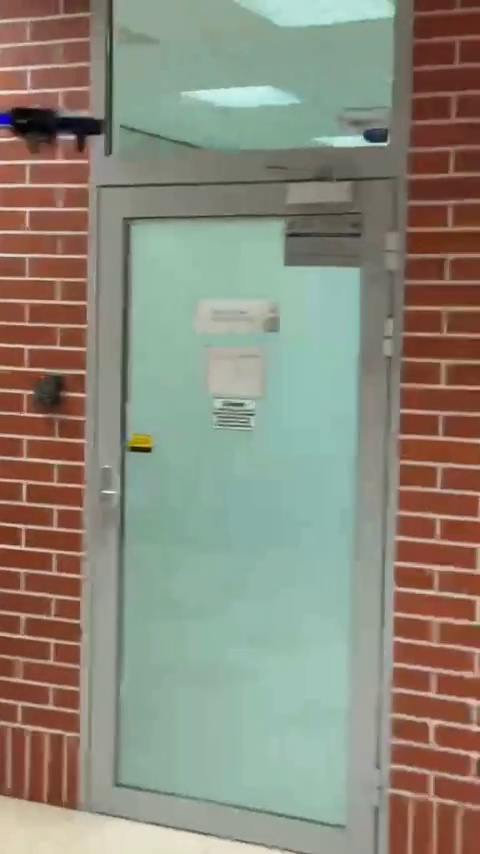drone: (0, 109, 122, 156)
